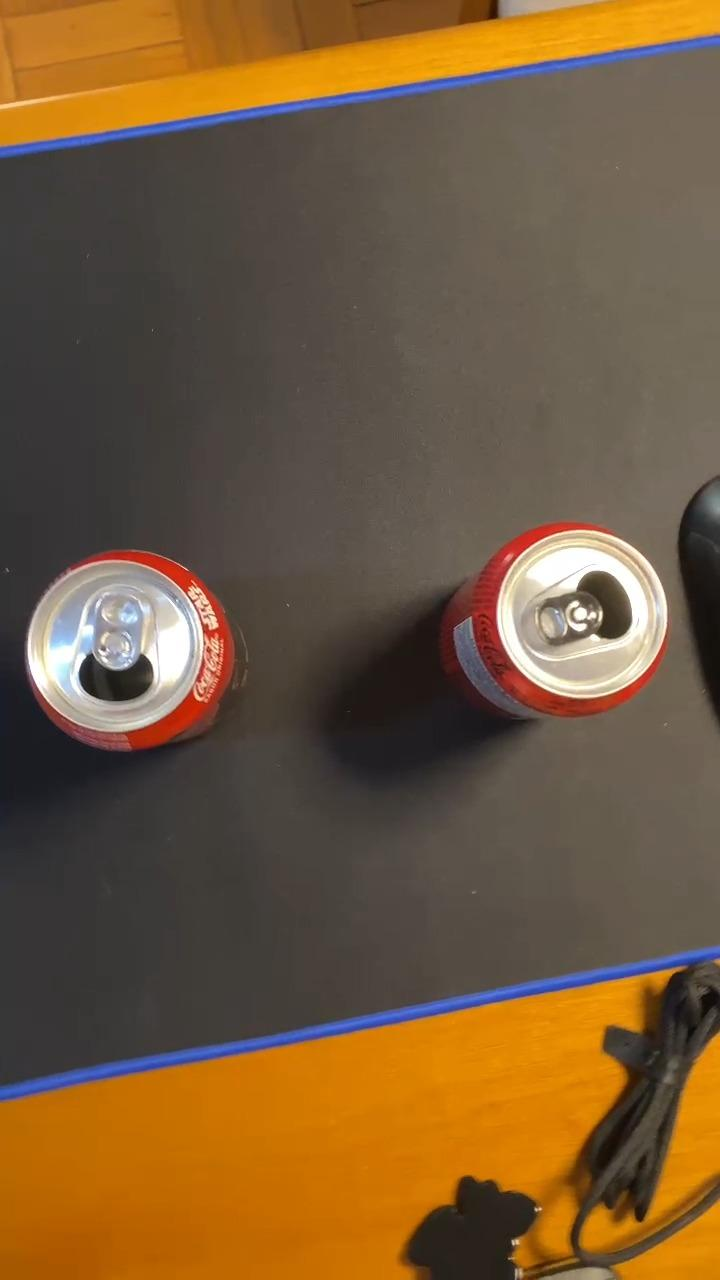coke: (440, 520, 670, 720), (23, 547, 245, 751)
